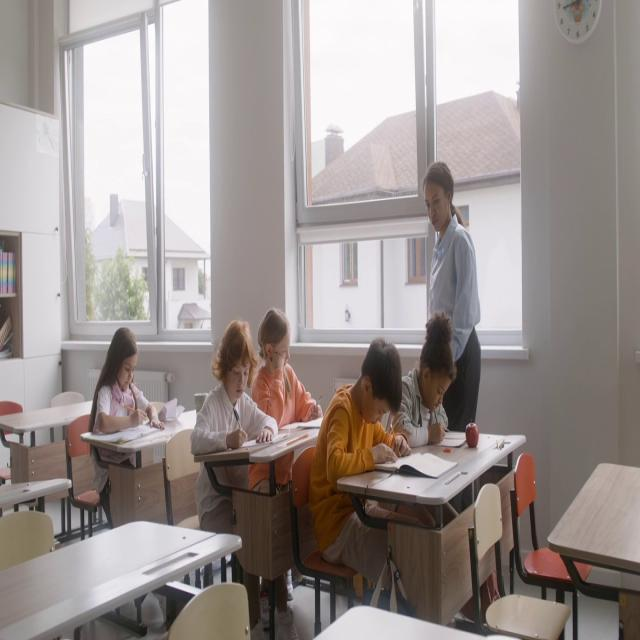reading: (250, 307, 320, 490)
writing: (314, 339, 426, 622), (190, 321, 284, 640), (89, 327, 162, 477), (394, 311, 454, 448)
